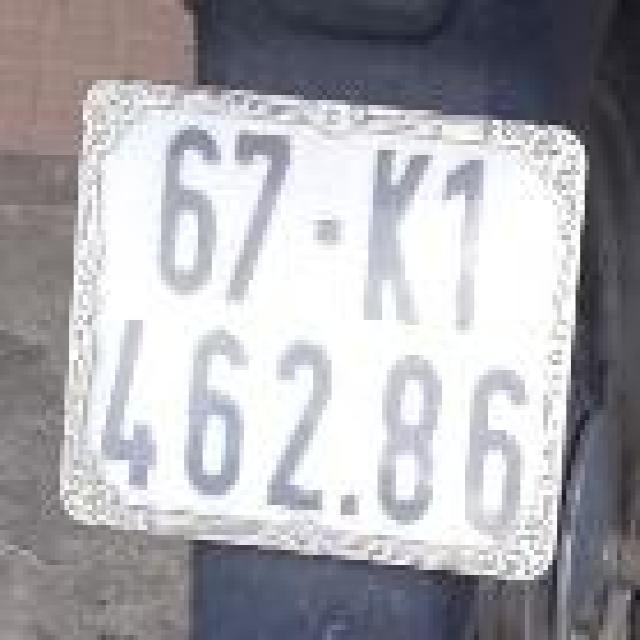1: (442, 142, 506, 342)
2: (262, 328, 346, 538)
4: (94, 298, 168, 502)
6: (449, 345, 541, 545), (173, 302, 251, 512), (145, 110, 228, 300)
7: (225, 122, 304, 312)
8: (366, 340, 444, 540)
K: (350, 140, 437, 340)
